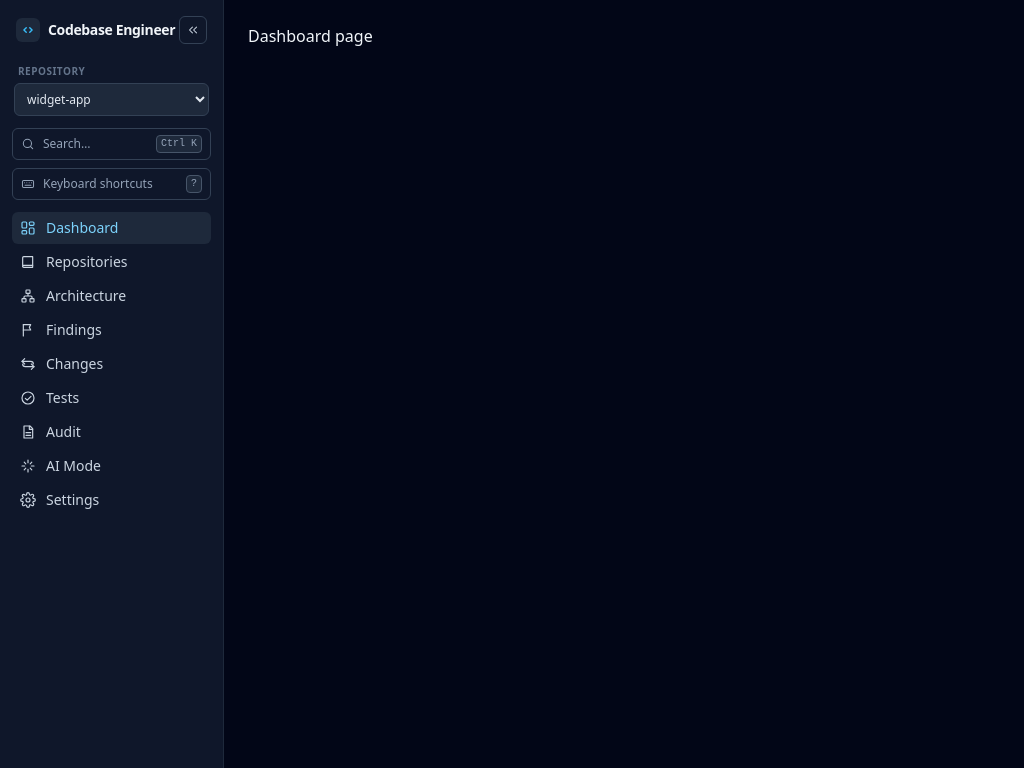
Test: CommandPalette (Ctrl/Cmd+K) — the palette itself stays; only its theme-toggle command was removed › no longer offers a theme-toggle command — dark mode only, per explicit request
The image size is (1024, 768).
Step 1. Type keys "{Control>}k{/Control}"
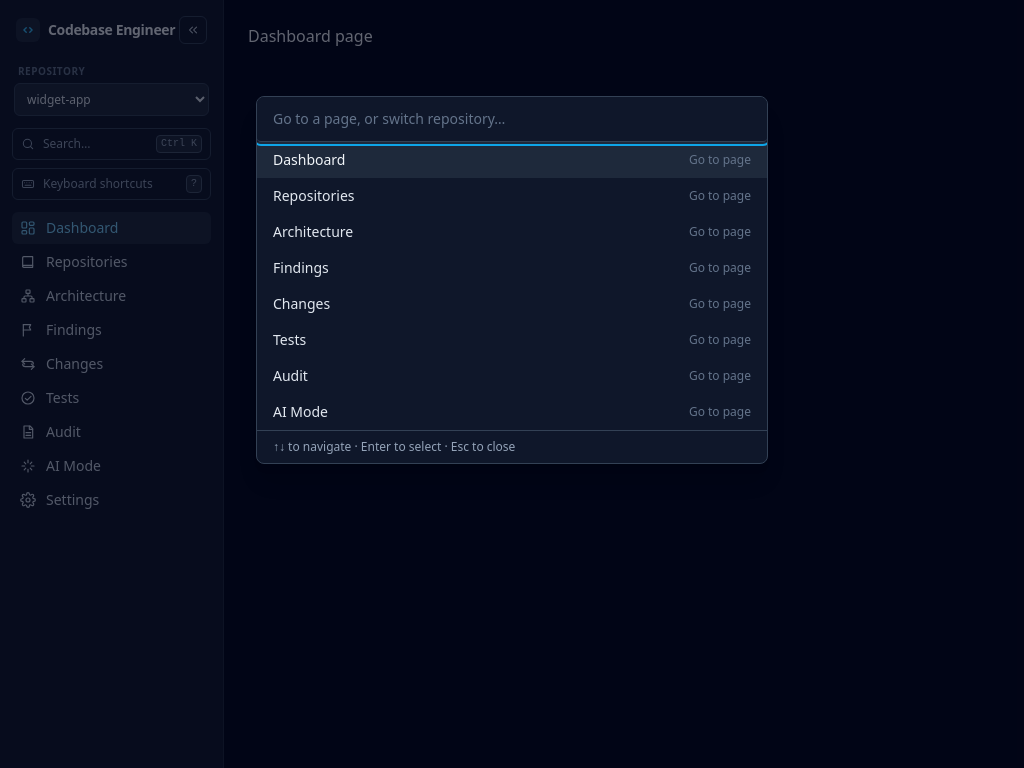
Step 2. Type "theme" into the field named "Command palette search" → (512, 120), box [257,97,767,142]
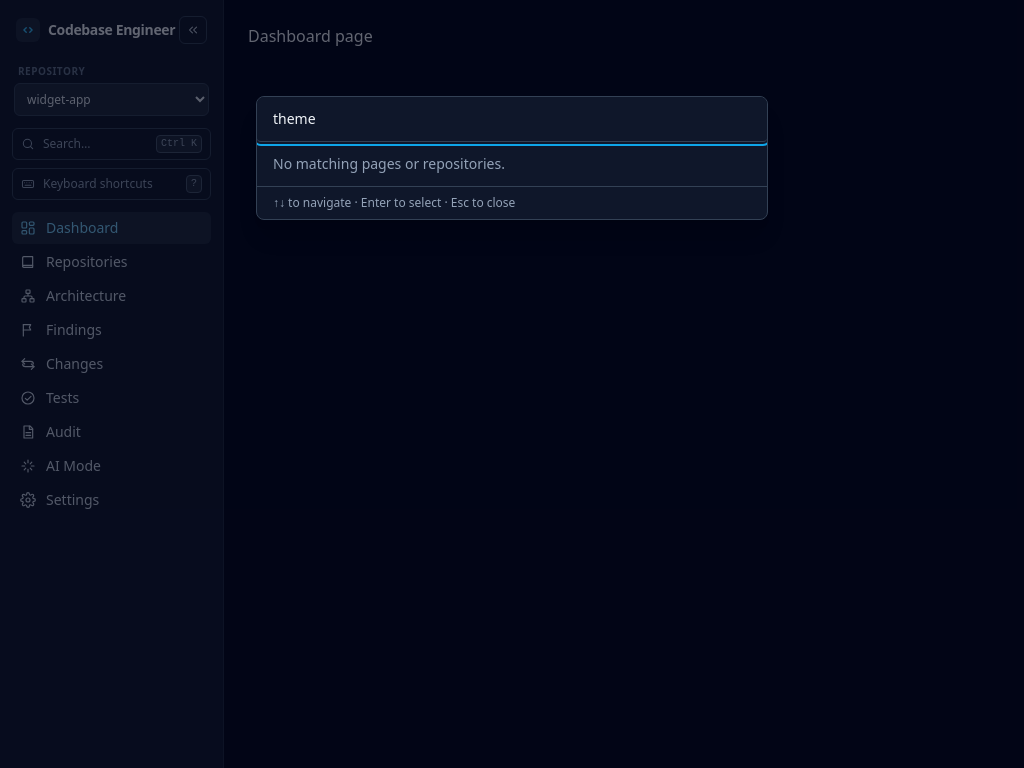
Check: the button "Dashboard Go to page" is gone
